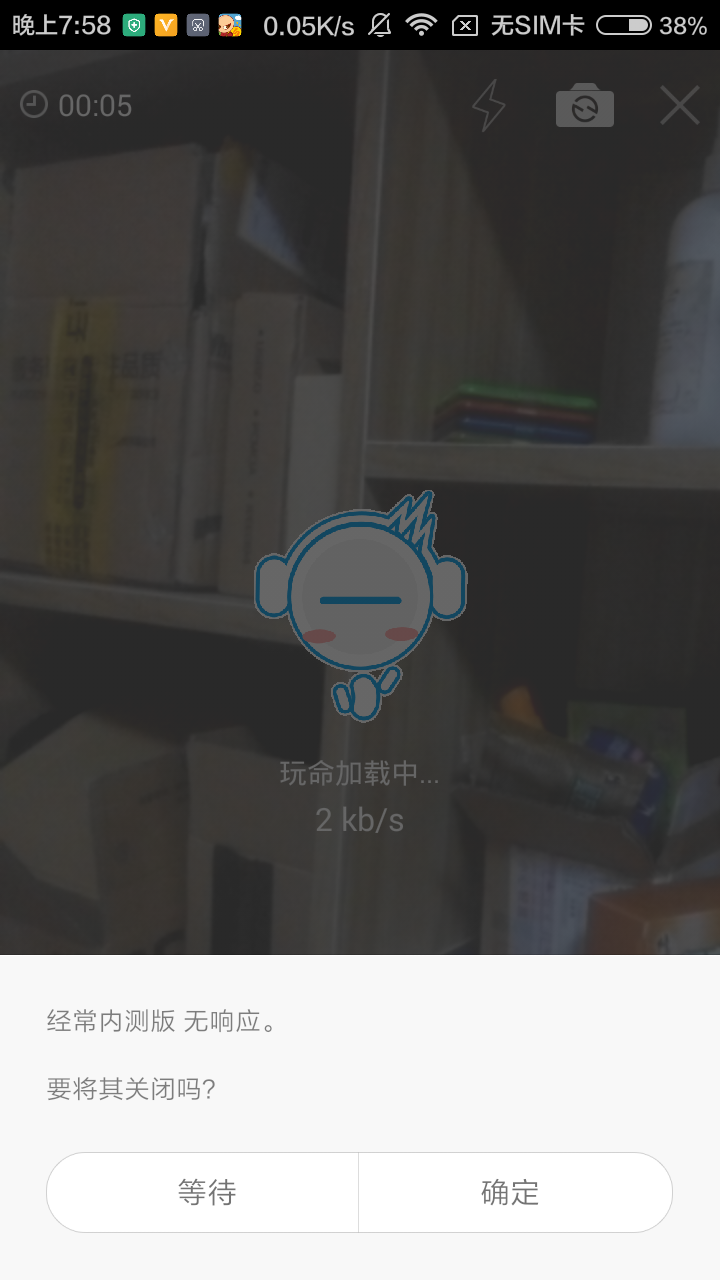textview: (31, 992, 283, 1057)
